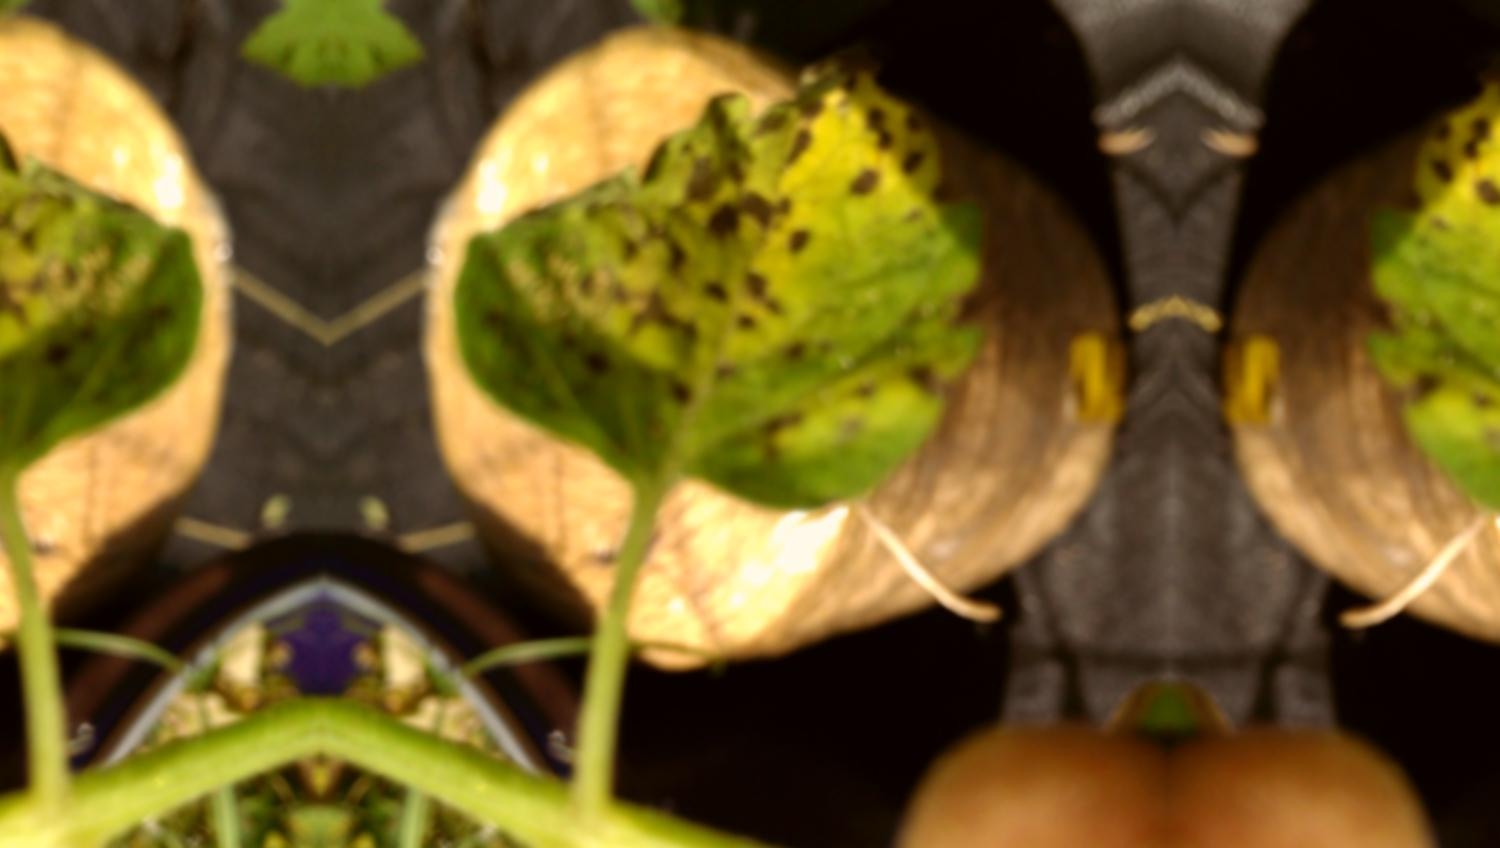Tomato Septoria leaf spot: (439, 35, 1050, 553)
